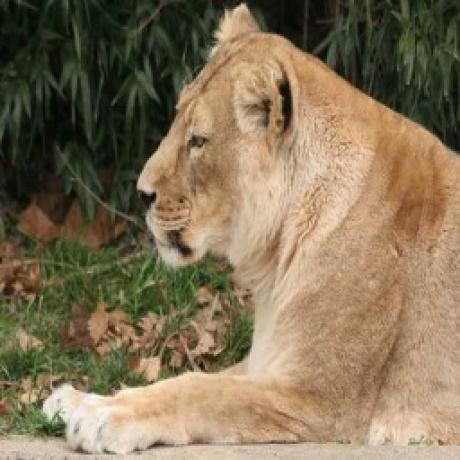Lion: (43, 5, 460, 455)
